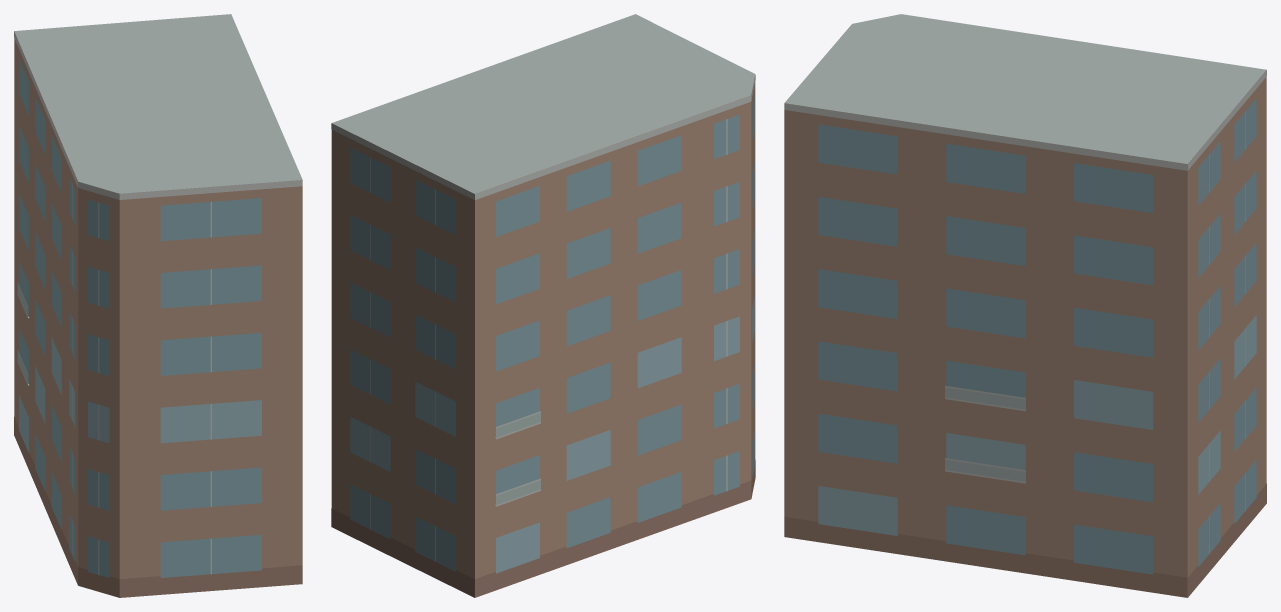
Rendered from survey-upis-32851174.glb.
The picture shows the model from 3 angles, left to right: view 1: azimuth 30°, elevation 25°; view 2: azimuth 150°, elevation 25°; view 3: azimuth 270°, elevation 25°; orthographic projection. The views are drawn at different scales.
Parts seen in each view (by area): view 1: survey-upis-32851174.tmp; view 2: survey-upis-32851174.tmp; view 3: survey-upis-32851174.tmp.
Part boxes in pixels (x1,y1,x2,y2): survey-upis-32851174.tmp: (14,14,302,597); survey-upis-32851174.tmp: (331,14,755,597); survey-upis-32851174.tmp: (784,14,1266,597).
Bounding box in the file's own units: 11.7 × 15.75 × 15.89.
